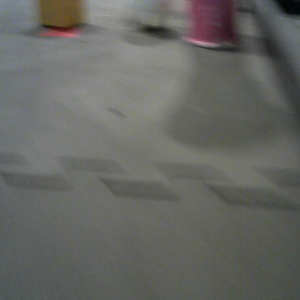right: (181, 1, 238, 50)
